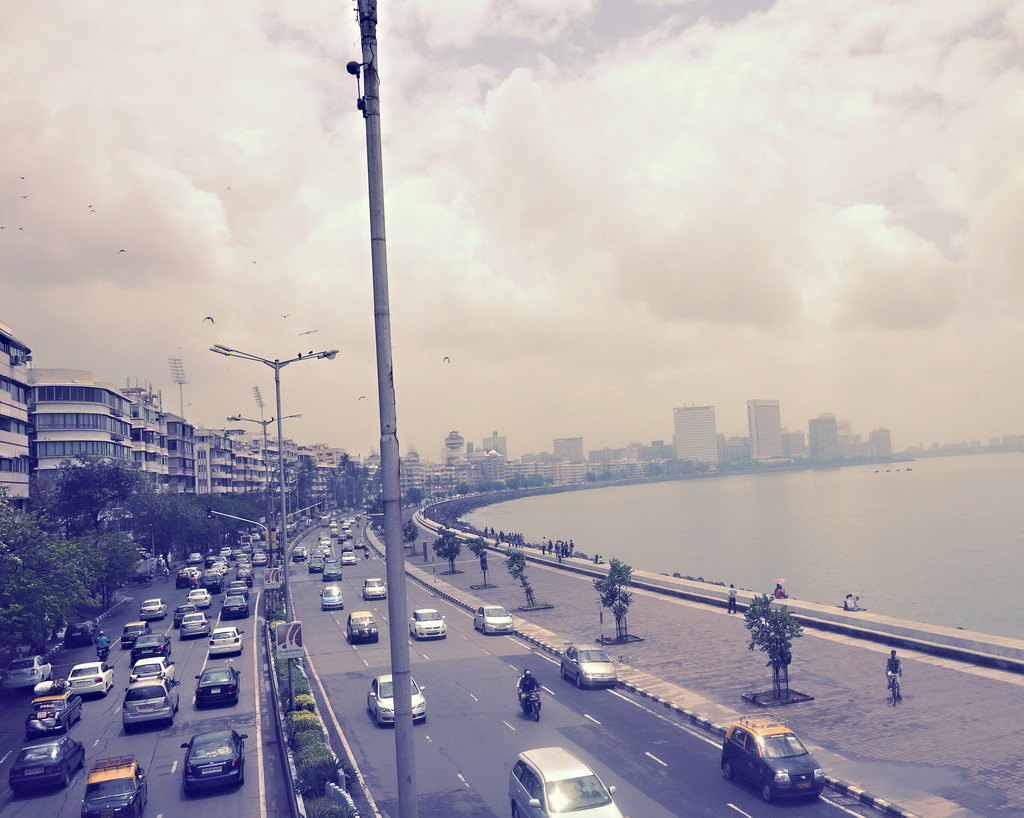cars: (171, 507, 362, 581), (726, 717, 831, 812), (504, 740, 625, 817), (176, 730, 246, 791), (79, 757, 147, 817), (7, 734, 81, 787), (120, 675, 180, 728), (367, 671, 425, 724), (559, 644, 618, 687), (194, 667, 240, 712), (64, 663, 115, 695), (3, 654, 48, 687), (408, 607, 450, 639), (473, 604, 514, 634), (205, 623, 244, 654), (347, 607, 379, 641), (130, 633, 171, 658), (127, 659, 177, 677), (182, 610, 210, 640), (62, 622, 98, 644), (119, 623, 152, 647), (221, 594, 249, 618), (362, 575, 385, 599), (320, 583, 341, 609), (137, 597, 166, 615), (171, 602, 188, 627), (188, 588, 210, 607), (228, 581, 250, 590)
